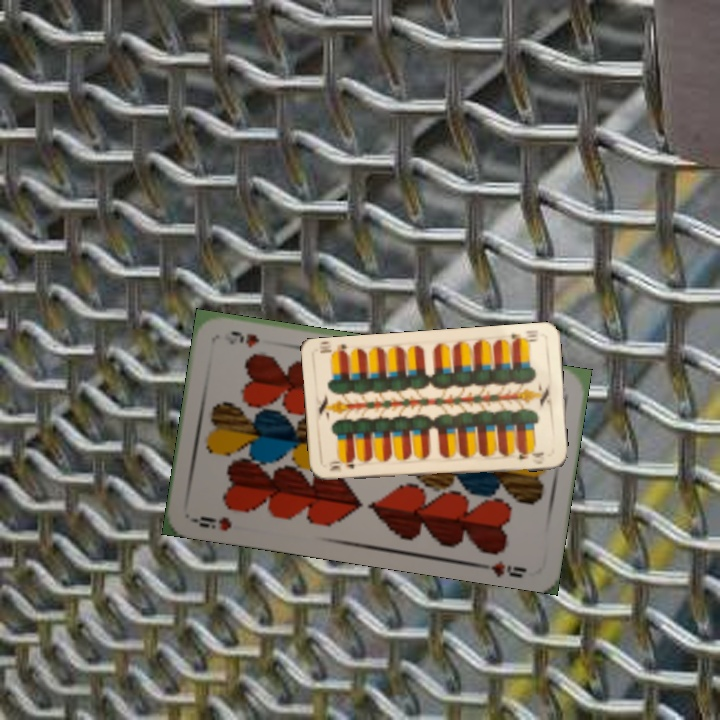E10: (507, 326, 541, 347), (325, 459, 357, 474)
H9: (189, 512, 234, 534)
